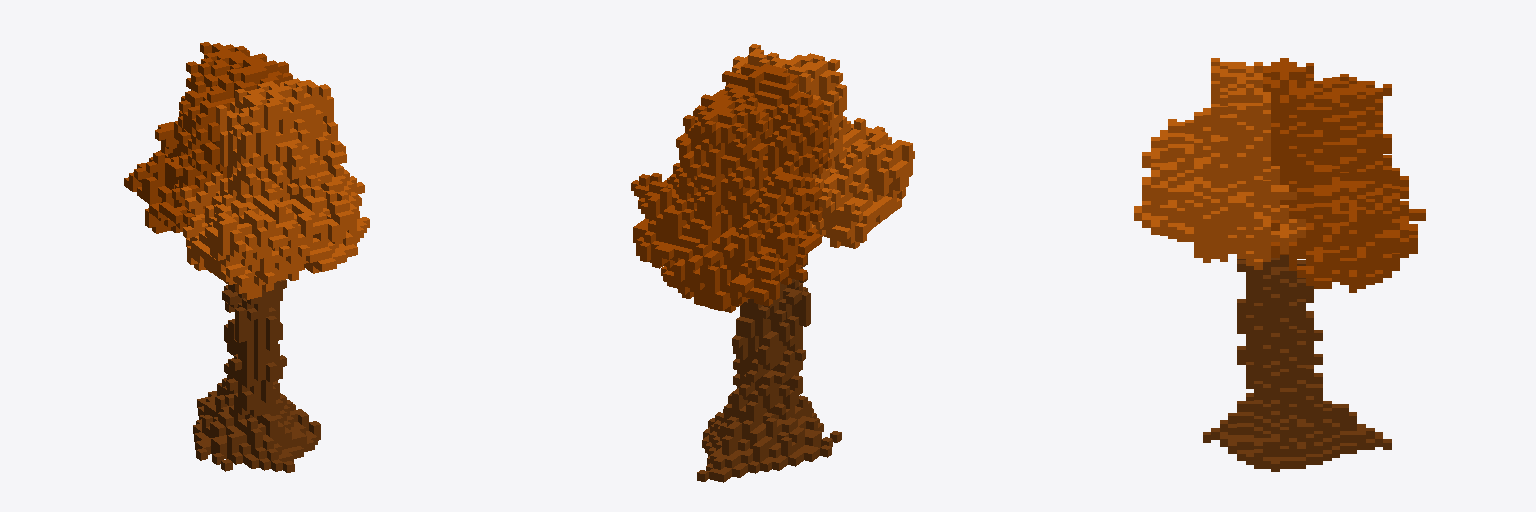
3 views of the same model, side by side, from view 1: azimuth 30°, elevation 25°; view 2: azimuth 150°, elevation 25°; view 3: azimuth 270°, elevation 25° (orthographic).
Parts seen in each view (by area): view 1: object 1; view 2: object 1; view 3: object 1.
Boxes of the visible parts, box(x1,y1,x2,y2) form: object 1: box(124, 42, 369, 472); object 1: box(631, 44, 914, 482); object 1: box(1134, 58, 1425, 471).
Bounding box in the file's own units: 2.4 × 4.8 × 3.4.
Materials: 1 (1 with a texture image).